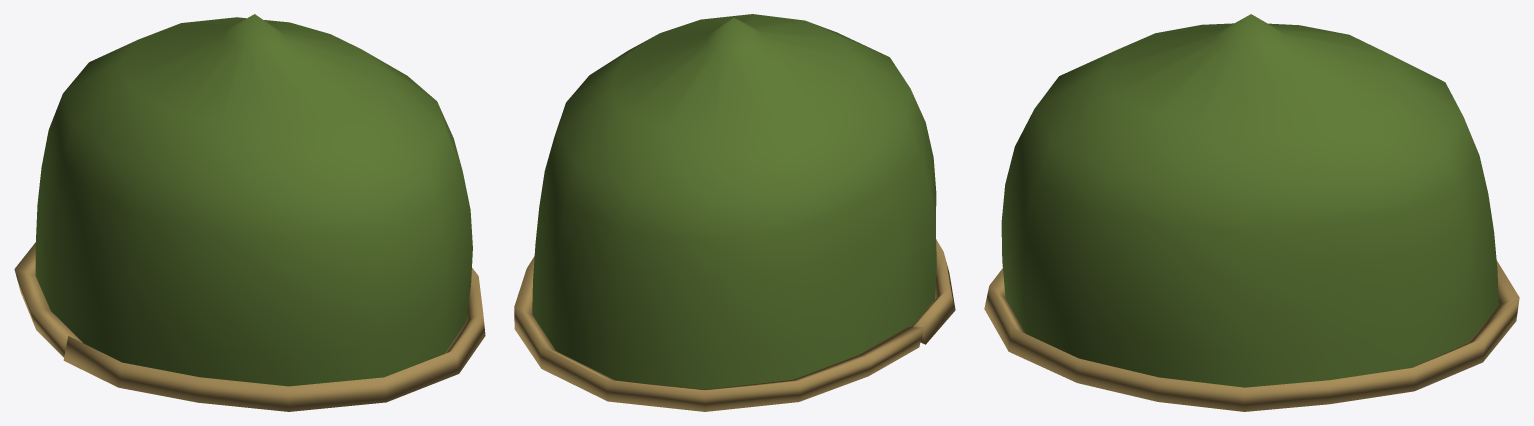
The model's file is turtle_helmet.glb.
The picture shows the model from 3 angles, left to right: view 1: azimuth 30°, elevation 25°; view 2: azimuth 150°, elevation 25°; view 3: azimuth 270°, elevation 25°; orthographic projection. The views are drawn at different scales.
Parts seen in each view (by area): view 1: turtle_helmet_head; view 2: turtle_helmet_head; view 3: turtle_helmet_head.
Part boxes in pixels (box(x1,y1,x2,y2)): turtle_helmet_head: box(14, 14, 485, 411); turtle_helmet_head: box(514, 14, 955, 411); turtle_helmet_head: box(984, 14, 1519, 411).
Size of the model in its own units: 0.2403 by 0.1779 by 0.281.
